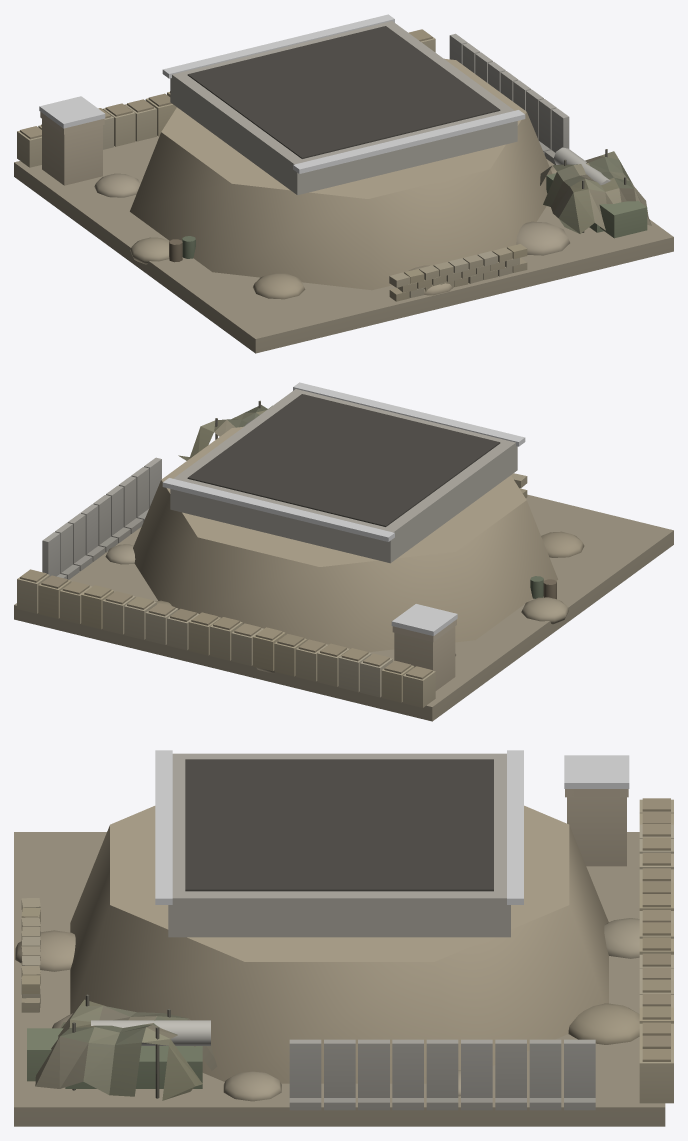
File: m_uplink_27f64e9f.glb
The picture shows the model from 3 angles, top to bottom: view 1: azimuth 30°, elevation 25°; view 2: azimuth 150°, elevation 25°; view 3: azimuth 270°, elevation 25°; orthographic projection. The views are drawn at different scales.
Parts seen in each view (by area): view 1: mesh; view 2: mesh; view 3: mesh.
Boxes of the visible parts, x1=… form: mesh: x1=14, y1=14, x2=673, y2=353; mesh: x1=14, y1=382, x2=673, y2=721; mesh: x1=14, y1=750, x2=673, y2=1126.
Bounding box in the file's own units: 79.61 × 21.2 × 77.
